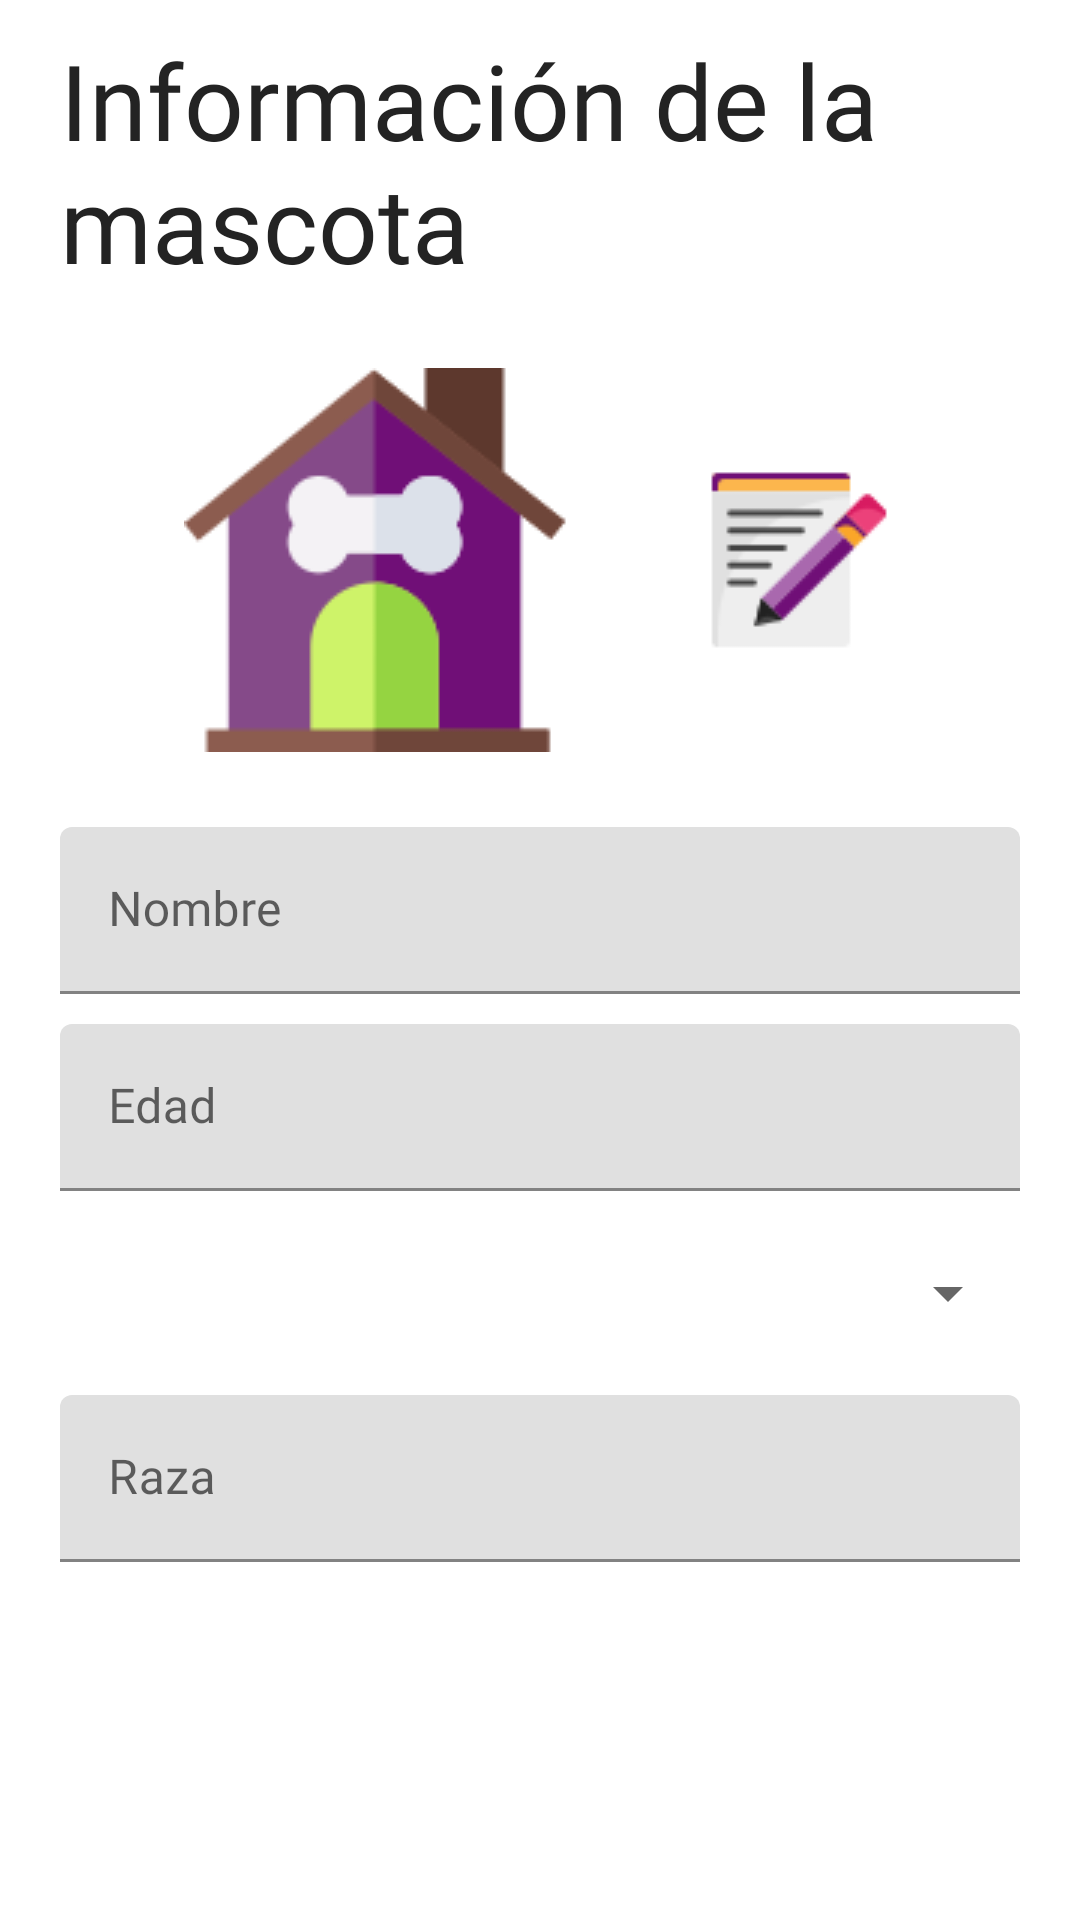

Icons on this 1080×1920 Android screen, each with the point to tap as [x,y]:
Icono editar: [799,559]
